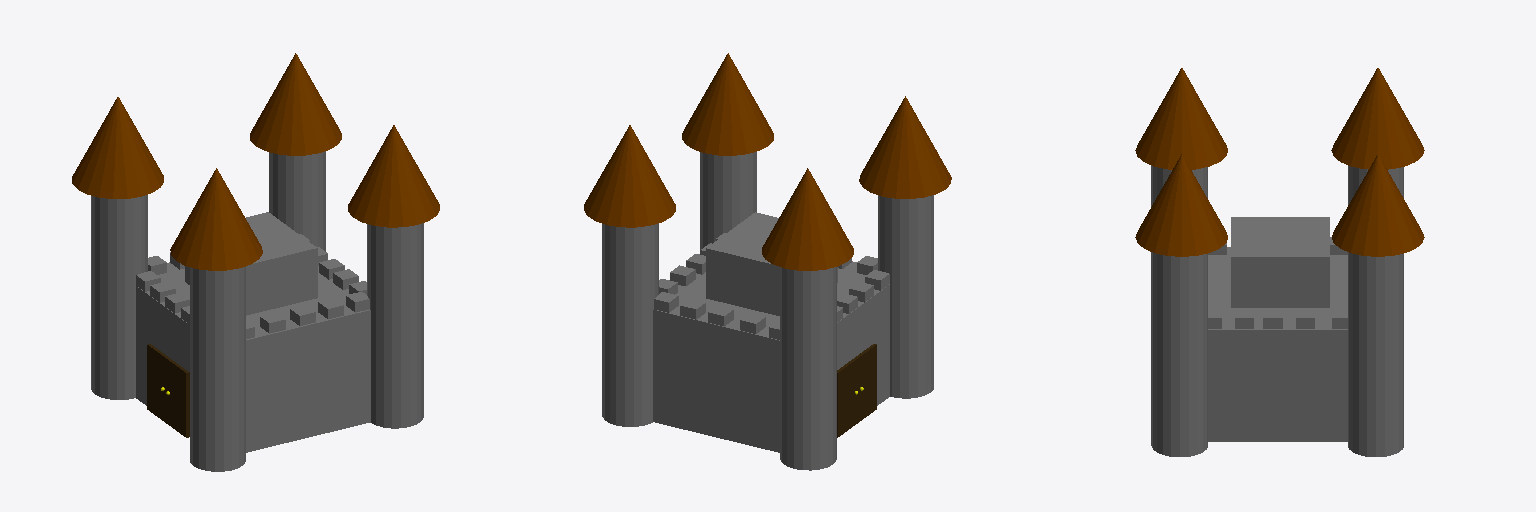
Rendered from fort.obj.
3 renders of one model, left to right at view 1: azimuth 30°, elevation 25°; view 2: azimuth 150°, elevation 25°; view 3: azimuth 270°, elevation 25°, orthographic.
Parts seen in each view (by area): view 1: pCube1, pCylinder1, pCylinder2, pCylinder4, pCube4, pCone4, pCone1, pCone2, pCone3, pCylinder3, pCube3, pCube2; view 2: pCube1, pCylinder4, pCylinder3, pCylinder1, pCube4, pCone4, pCone2, pCone3, pCone1, pCylinder2, pCube2, pCube3; view 3: pCube1, pCylinder2, pCylinder3, pCube4, pCone2, pCone3, pCone1, pCone4, pCylinder1, pCylinder4.
Boxes of the visible parts, x1,y1,x2,y2 form: pCube1: [136, 262, 370, 452]; pCylinder1: [190, 267, 245, 471]; pCylinder2: [367, 223, 423, 428]; pCylinder4: [91, 195, 147, 399]; pCube4: [185, 212, 317, 315]; pCone4: [72, 97, 163, 198]; pCone1: [170, 168, 262, 270]; pCone2: [348, 125, 439, 227]; pCone3: [250, 53, 341, 155]; pCylinder3: [269, 151, 325, 251]; pCube3: [167, 358, 189, 437]; pCube2: [147, 344, 168, 423]; pCube1: [653, 261, 889, 452]; pCylinder4: [780, 267, 836, 470]; pCylinder3: [602, 223, 658, 426]; pCylinder1: [878, 195, 933, 398]; pCube4: [706, 212, 837, 315]; pCone4: [762, 168, 853, 270]; pCone2: [682, 53, 773, 155]; pCone3: [584, 125, 675, 227]; pCone1: [859, 96, 951, 198]; pCylinder2: [700, 152, 756, 249]; pCube2: [837, 358, 857, 437]; pCube3: [855, 344, 876, 422]; pCube1: [1208, 247, 1347, 441]; pCylinder2: [1151, 252, 1207, 456]; pCylinder3: [1348, 252, 1403, 456]; pCube4: [1231, 217, 1329, 307]; pCone2: [1135, 154, 1227, 256]; pCone3: [1332, 154, 1424, 256]; pCone1: [1135, 68, 1227, 169]; pCone4: [1331, 68, 1424, 169]; pCylinder1: [1151, 165, 1207, 206]; pCylinder4: [1348, 166, 1403, 204].
Bounding box in the file's own units: 15.13 × 16.32 × 14.67.